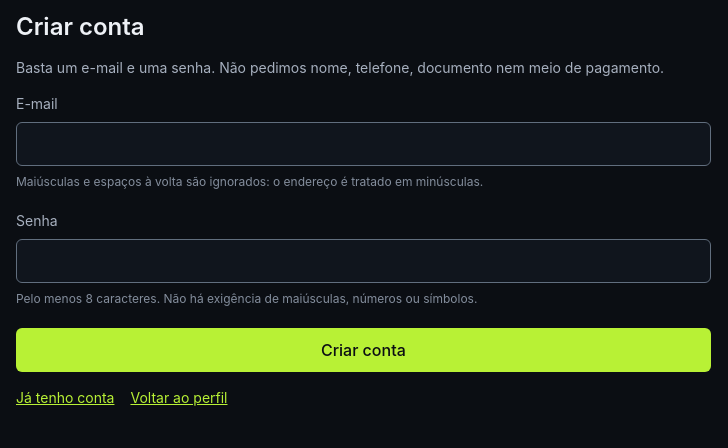
Test case: cadastro (A-A2) › senha curta de mais não gasta um pedido
This screenshot has width=728, height=448.
In the field labelled "E-mail": (363, 144) [16, 122, 711, 166], type "pedro@exemplo.pt"
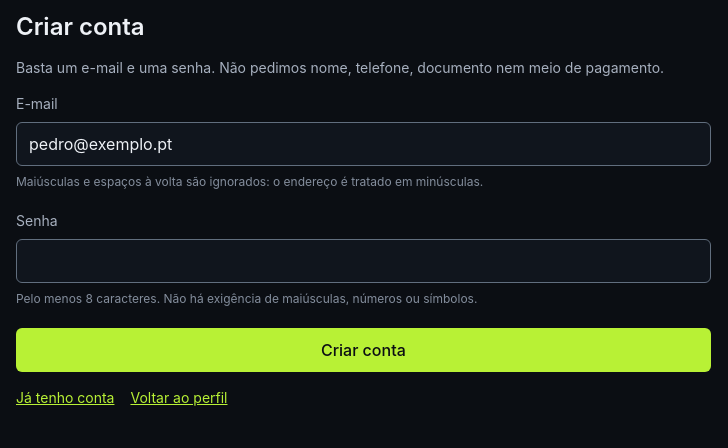
In the password field labelled "Senha": (363, 262) [16, 240, 711, 284], type "curta"
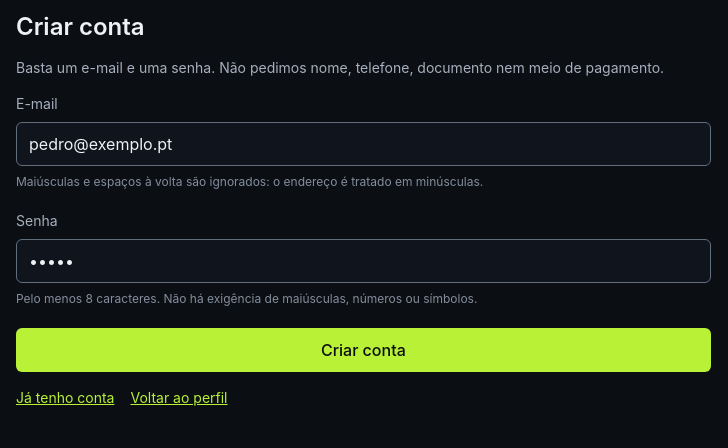
Click the button "Criar conta": click(363, 350) [16, 328, 711, 372]
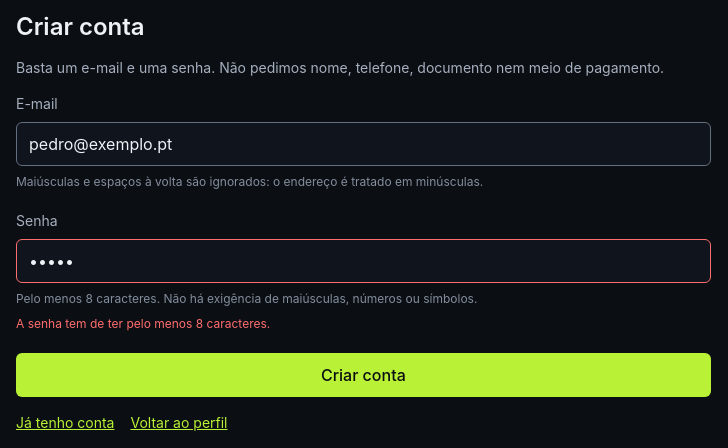
Check: the text "A senha tem de ter pelo menos 8 caracteres." is shown, box [16, 316, 270, 331]
